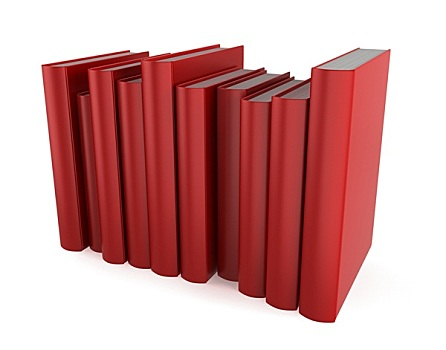book: (137, 42, 247, 285), (304, 41, 391, 324)
